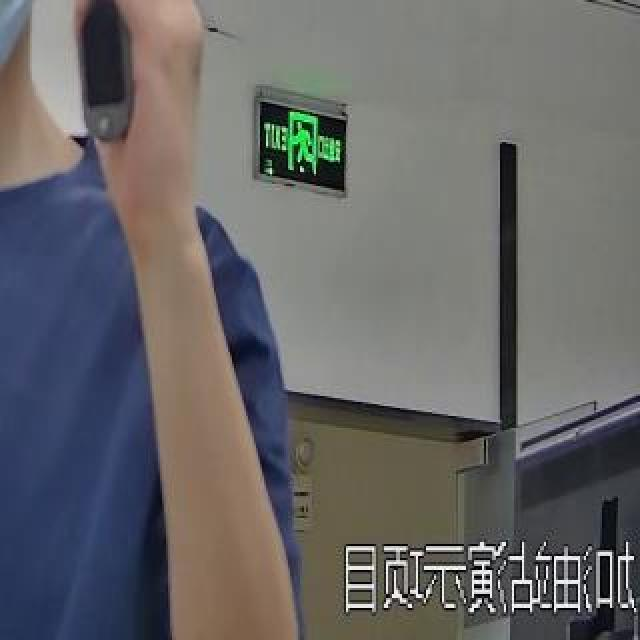Guns: (52, 0, 210, 156)
